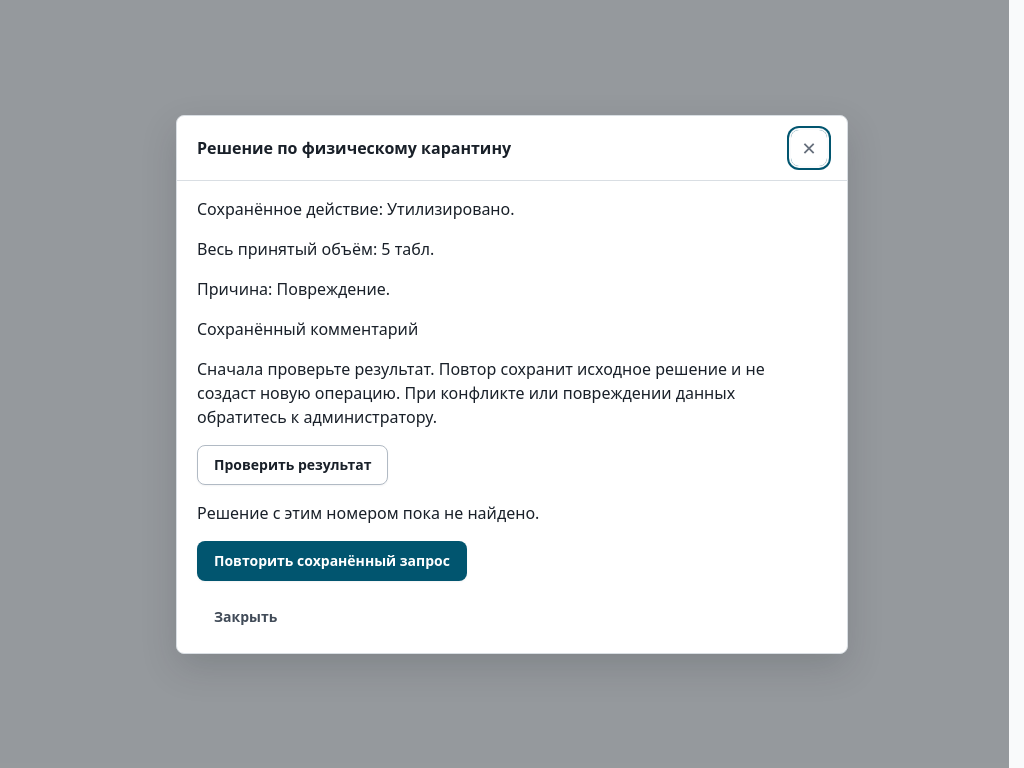
Scenario: physical disposition modal recovery › mount only inspects saved intent; not_found requires explicit retry with no replacement input
Expected: the text "Решение с этим номером пока не найдено." is shown, [197,502,539,524]
Click the button "Повторить сохранённый запрос". click: [332, 560]
box: [197,540,467,580]
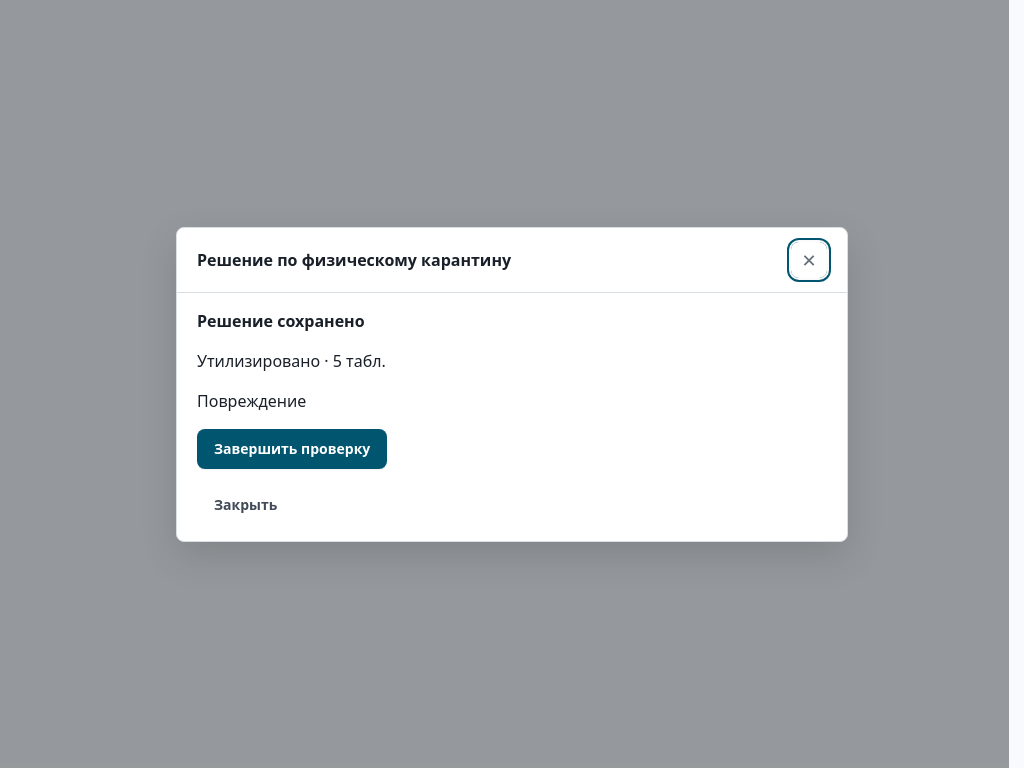
Expected: the text "Решение сохранено" is shown, [197,310,365,332]
